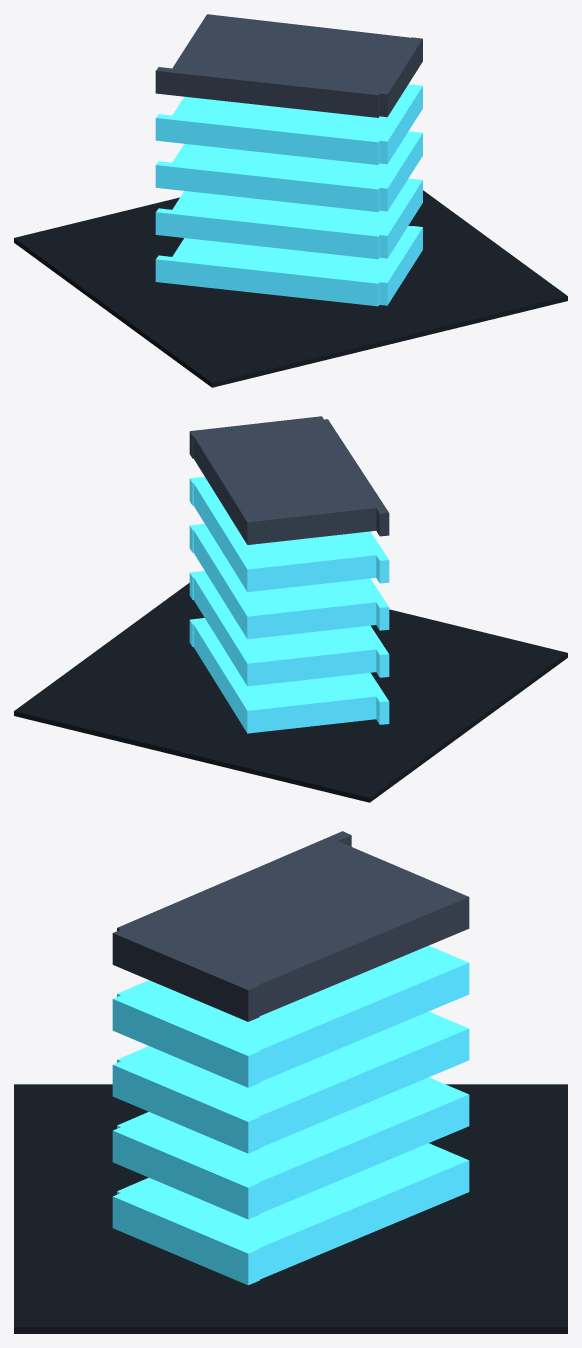
3 renders of one model, top to bottom at view 1: azimuth 30°, elevation 25°; view 2: azimuth 150°, elevation 25°; view 3: azimuth 270°, elevation 25°, orthographic. The views are drawn at different scales.
Parts seen in each view (by area): view 1: Ground, f5, f3, f4, f2, f1; view 2: Ground, f5, f1, f2, f4, f3; view 3: Ground, f5, f1, f4, f3, f2.
Boxes of the visible parts, box(x1,y1,x2,y2) form: Ground: box(14, 190, 567, 387); f5: box(155, 14, 422, 117); f3: box(155, 131, 422, 212); f4: box(155, 84, 422, 164); f2: box(155, 178, 422, 259); f1: box(155, 226, 422, 306); Ground: box(14, 583, 567, 802); f5: box(189, 416, 389, 544); f1: box(189, 618, 389, 733); f2: box(189, 571, 389, 686); f4: box(189, 476, 389, 592); f3: box(189, 523, 389, 639); Ground: box(14, 1084, 567, 1333); f5: box(112, 831, 469, 1021); f1: box(112, 1143, 469, 1285); f4: box(112, 945, 469, 1087); f3: box(112, 1011, 469, 1153); f2: box(112, 1077, 469, 1219).
Size of the model in its own units: 0.155 by 0.0899 by 0.1495.
